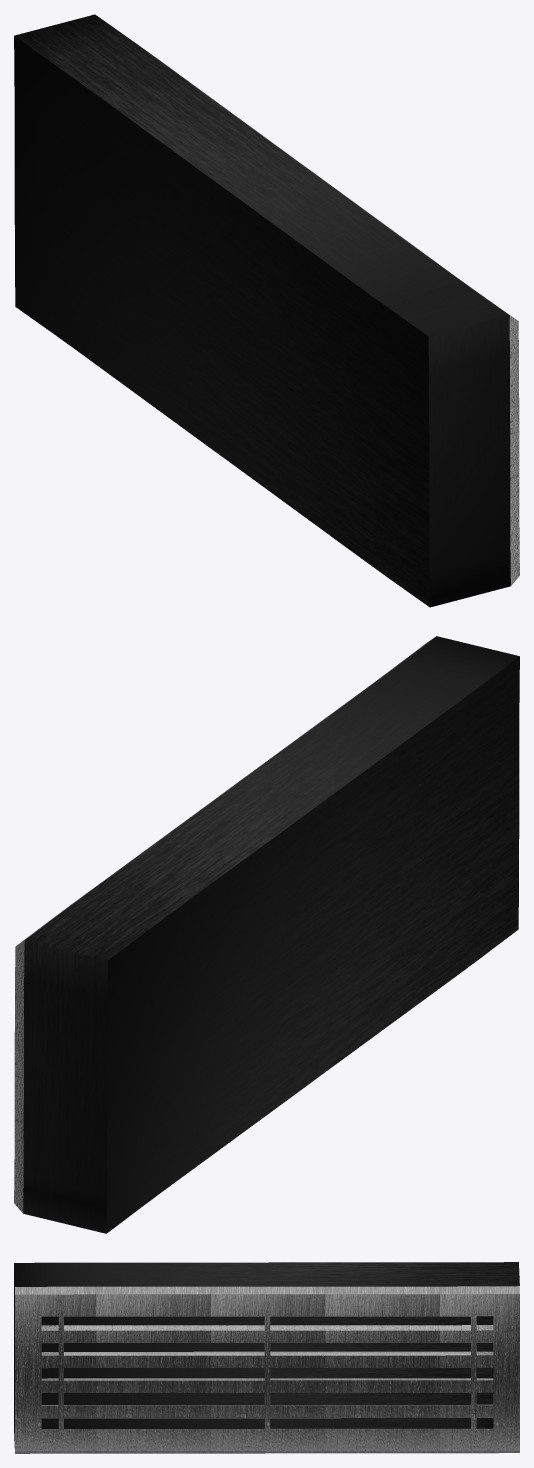
File: AC_vent.fbx
3 views of the same model, one above another, from view 1: azimuth 30°, elevation 25°; view 2: azimuth 150°, elevation 25°; view 3: azimuth 270°, elevation 25° (orthographic). The views are drawn at different scales.
Parts seen in each view (by area): view 1: Cube.001, Cube; view 2: Cube.001, Cube; view 3: Cube, Cube.001.
Boxes of the visible parts, bbox=[...] form: Cube.001: bbox=[14, 14, 510, 607]; Cube: bbox=[99, 17, 519, 585]; Cube.001: bbox=[23, 636, 519, 1233]; Cube: bbox=[14, 638, 433, 1213]; Cube: bbox=[15, 1286, 519, 1453]; Cube.001: bbox=[14, 1262, 519, 1447].
Size of the model in its own units: 58.64 by 160 by 440.
2 materials, 2 textured.
